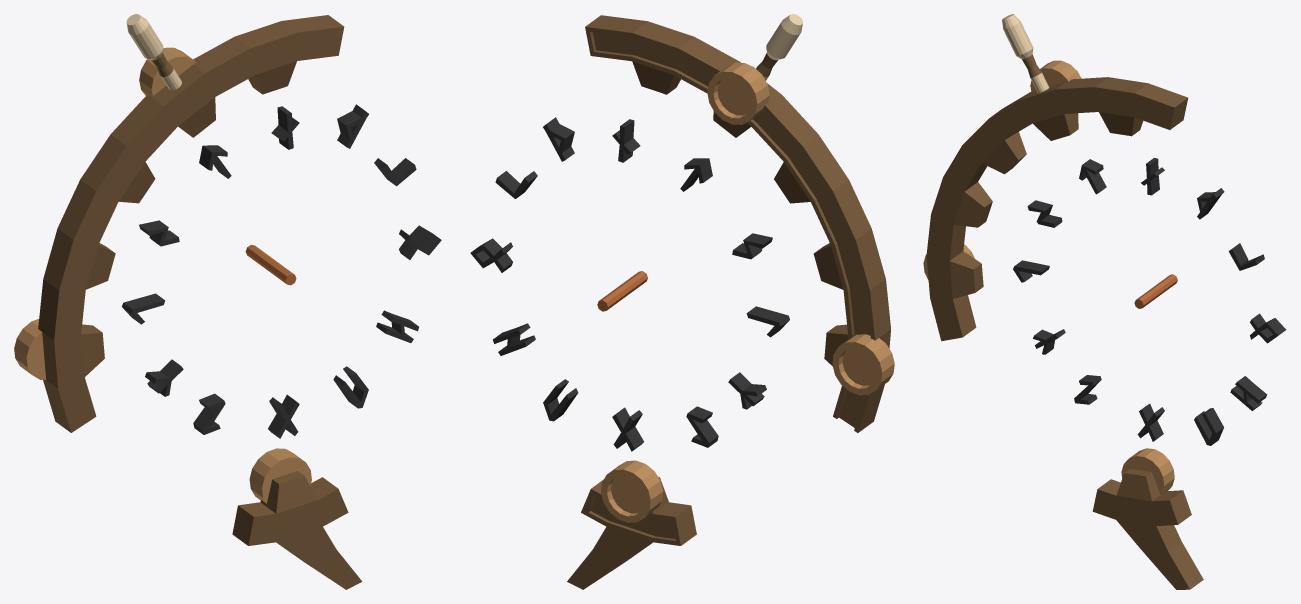
File: TowerClock.fbx
3 views of the same model, side by side, from view 1: azimuth 30°, elevation 25°; view 2: azimuth 150°, elevation 25°; view 3: azimuth 330°, elevation 25° (orthographic). The views are drawn at different scales.
Visible parts, largest first — view 1: TowerClock; view 2: TowerClock; view 3: TowerClock.
Part boxes in pixels (x1,y1,x2,y2): TowerClock: (14, 14, 441, 589); TowerClock: (470, 14, 894, 589); TowerClock: (923, 14, 1286, 589).
Size of the model in its own units: 56.17 by 79.89 by 10.75.
